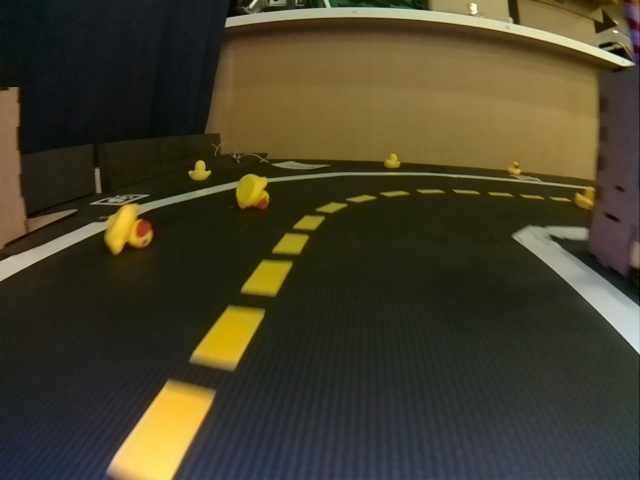Duckie: (106, 206, 151, 253), (238, 174, 270, 208), (190, 161, 212, 180), (577, 187, 594, 210), (385, 154, 400, 168), (509, 161, 520, 173)
QR code: (92, 194, 149, 204), (515, 175, 541, 182)
